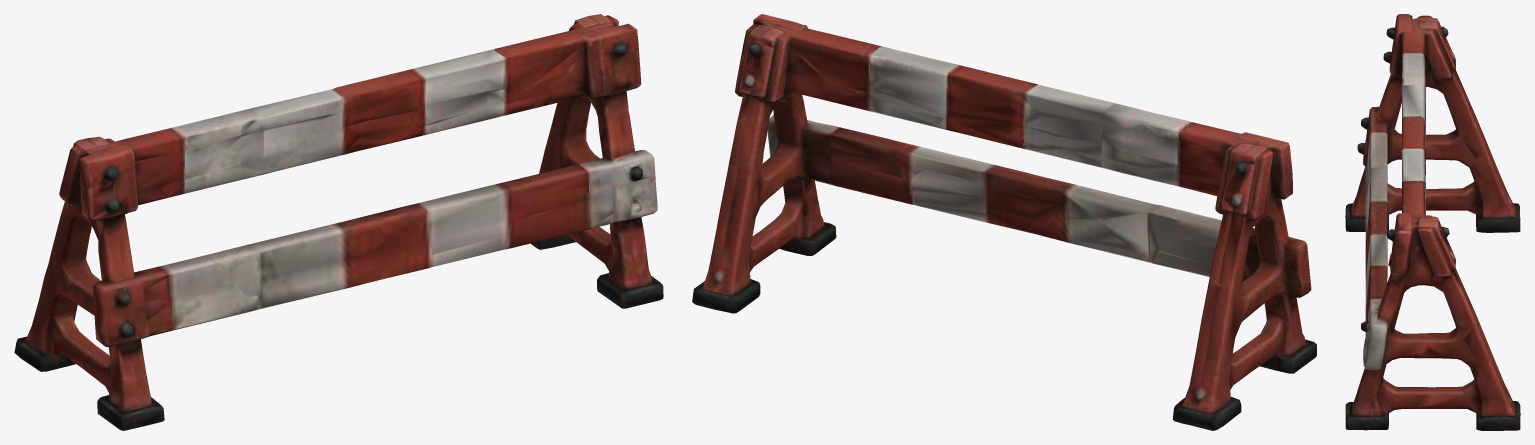
Rendered from veh-j-barricade.glb.
3 views of the same model, side by side, from view 1: azimuth 30°, elevation 25°; view 2: azimuth 150°, elevation 25°; view 3: azimuth 270°, elevation 25° (orthographic). The views are drawn at different scales.
Visible parts, largest first — view 1: tripo_node_8973d3b9-6822-42b7-95a7-70afae311db6; view 2: tripo_node_8973d3b9-6822-42b7-95a7-70afae311db6; view 3: tripo_node_8973d3b9-6822-42b7-95a7-70afae311db6.
Boxes of the visible parts, <box> form: tripo_node_8973d3b9-6822-42b7-95a7-70afae311db6: <box>14,14,663,430</box>; tripo_node_8973d3b9-6822-42b7-95a7-70afae311db6: <box>692,14,1316,430</box>; tripo_node_8973d3b9-6822-42b7-95a7-70afae311db6: <box>1345,14,1520,430</box>.
Bounding box in the file's own units: 0.9786 × 0.4194 × 0.3288.
1 material, 1 textured.
